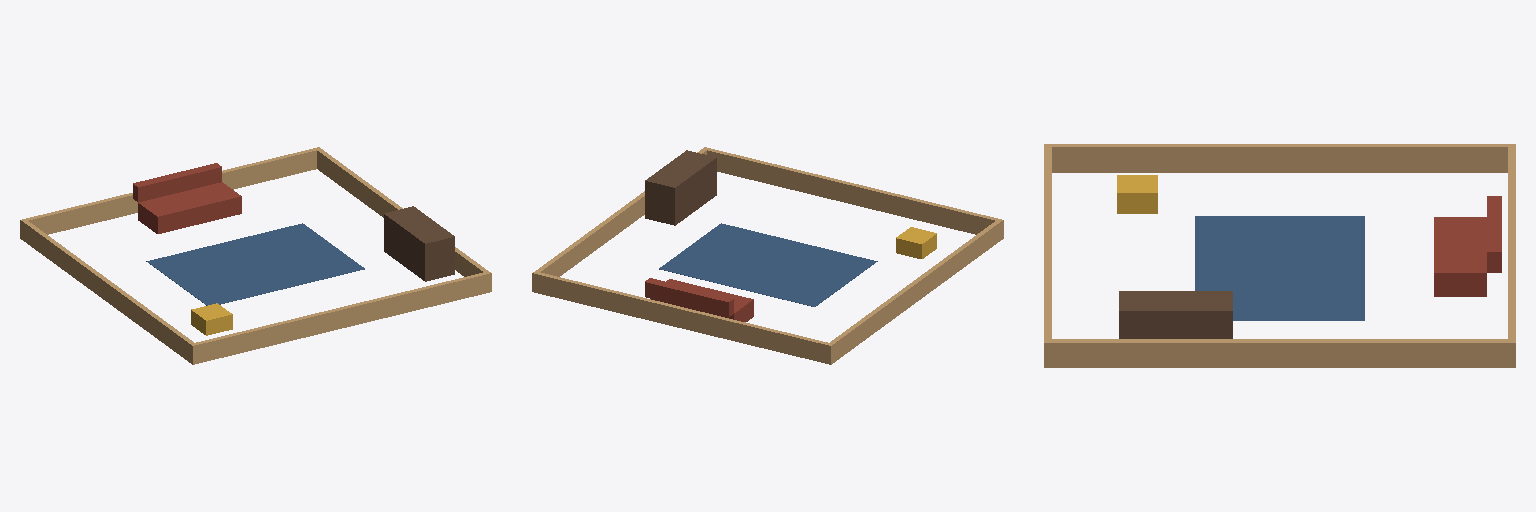
The robot description file, URDF, robot "playground":
<?xml version="1.0"?>
<!-- SPDX-License-Identifier: GPL-3.0-or-later OR LicenseRef-RobotIK-Commercial
     Copyright (c) 2020-2026 Quentin Quadrat
     Playground of the Microduck: a room of 2.4 m by 2.4 m with low walls,
     a sofa, a pouf, a shelf and a rug (drawn only: the duck walks on it).
     Base frame: origin on the floor at the middle of the room, z up.
     Generated once; edit the boxes here. -->
<robot name="playground">
  <material name="wood"><color rgba="0.80 0.66 0.48 1"/></material>
  <material name="rug"><color rgba="0.30 0.42 0.55 1"/></material>
  <material name="sofa"><color rgba="0.62 0.32 0.26 1"/></material>
  <material name="pouf"><color rgba="0.88 0.70 0.30 1"/></material>
  <material name="shelf"><color rgba="0.45 0.35 0.28 1"/></material>

  <link name="playground_base">
    <inertial>
      <origin xyz="0 0 0.05" rpy="0 0 0"/>
      <mass value="50.0"/>
      <inertia ixx="1.0" ixy="0.0" ixz="0.0" iyy="1.0" iyz="0.0" izz="1.0"/>
    </inertial>
    <visual>
      <!-- wall_x -->
      <origin xyz="-1.2200 0.0000 0.0750" rpy="0 0 0"/>
      <geometry><box size="0.0400 2.4800 0.1500"/></geometry>
      <material name="wood"/>
    </visual>
    <collision>
      <!-- wall_x -->
      <origin xyz="-1.2200 0.0000 0.0750" rpy="0 0 0"/>
      <geometry><box size="0.0400 2.4800 0.1500"/></geometry>
    </collision>
    <visual>
      <!-- wall_y -->
      <origin xyz="0.0000 -1.2200 0.0750" rpy="0 0 0"/>
      <geometry><box size="2.4000 0.0400 0.1500"/></geometry>
      <material name="wood"/>
    </visual>
    <collision>
      <!-- wall_y -->
      <origin xyz="0.0000 -1.2200 0.0750" rpy="0 0 0"/>
      <geometry><box size="2.4000 0.0400 0.1500"/></geometry>
    </collision>
    <visual>
      <!-- wall_x -->
      <origin xyz="1.2200 0.0000 0.0750" rpy="0 0 0"/>
      <geometry><box size="0.0400 2.4800 0.1500"/></geometry>
      <material name="wood"/>
    </visual>
    <collision>
      <!-- wall_x -->
      <origin xyz="1.2200 0.0000 0.0750" rpy="0 0 0"/>
      <geometry><box size="0.0400 2.4800 0.1500"/></geometry>
    </collision>
    <visual>
      <!-- wall_y -->
      <origin xyz="0.0000 1.2200 0.0750" rpy="0 0 0"/>
      <geometry><box size="2.4000 0.0400 0.1500"/></geometry>
      <material name="wood"/>
    </visual>
    <collision>
      <!-- wall_y -->
      <origin xyz="0.0000 1.2200 0.0750" rpy="0 0 0"/>
      <geometry><box size="2.4000 0.0400 0.1500"/></geometry>
    </collision>
    <visual>
      <!-- rug -->
      <origin xyz="0.0000 0.0000 0.0010" rpy="0 0 0"/>
      <geometry><box size="1.3000 0.9000 0.0020"/></geometry>
      <material name="rug"/>
    </visual>
    <visual>
      <!-- sofa_seat -->
      <origin xyz="0.0000 0.9500 0.0700" rpy="0 0 0"/>
      <geometry><box size="0.7000 0.2800 0.1400"/></geometry>
      <material name="sofa"/>
    </visual>
    <collision>
      <!-- sofa_seat -->
      <origin xyz="0.0000 0.9500 0.0700" rpy="0 0 0"/>
      <geometry><box size="0.7000 0.2800 0.1400"/></geometry>
    </collision>
    <visual>
      <!-- sofa_back -->
      <origin xyz="0.0000 1.1300 0.2000" rpy="0 0 0"/>
      <geometry><box size="0.7000 0.0800 0.1200"/></geometry>
      <material name="sofa"/>
    </visual>
    <collision>
      <!-- sofa_back -->
      <origin xyz="0.0000 1.1300 0.2000" rpy="0 0 0"/>
      <geometry><box size="0.7000 0.0800 0.1200"/></geometry>
    </collision>
    <visual>
      <!-- pouf -->
      <origin xyz="-0.8000 -0.7500 0.0600" rpy="0 0 0"/>
      <geometry><box size="0.2200 0.2200 0.1200"/></geometry>
      <material name="pouf"/>
    </visual>
    <collision>
      <!-- pouf -->
      <origin xyz="-0.8000 -0.7500 0.0600" rpy="0 0 0"/>
      <geometry><box size="0.2200 0.2200 0.1200"/></geometry>
    </collision>
    <visual>
      <!-- shelf -->
      <origin xyz="1.0400 -0.5500 0.1500" rpy="0 0 0"/>
      <geometry><box size="0.2500 0.6000 0.3000"/></geometry>
      <material name="shelf"/>
    </visual>
    <collision>
      <!-- shelf -->
      <origin xyz="1.0400 -0.5500 0.1500" rpy="0 0 0"/>
      <geometry><box size="0.2500 0.6000 0.3000"/></geometry>
    </collision>
  </link>
</robot>

--- Facts derived from the render (not from the file) ---
The picture shows the robot from 3 angles, left to right: view 1: azimuth 30°, elevation 25°; view 2: azimuth 150°, elevation 25°; view 3: azimuth 270°, elevation 25°; orthographic projection.
Model playground with 1 links and 0 joints (none), rooted at playground_base, posed all joints at 0.
Links seen in each view (by area): view 1: playground_base; view 2: playground_base; view 3: playground_base.
Boxes of the visible links, x1,y1,x2,y2 form: playground_base: (20, 147, 491, 364); playground_base: (532, 147, 1003, 364); playground_base: (1044, 144, 1515, 367).
Size in the robot's own frame: 2.48 by 2.48 by 0.3 metres.
Geometry: primitives only (box / cylinder / sphere), no mesh files.
